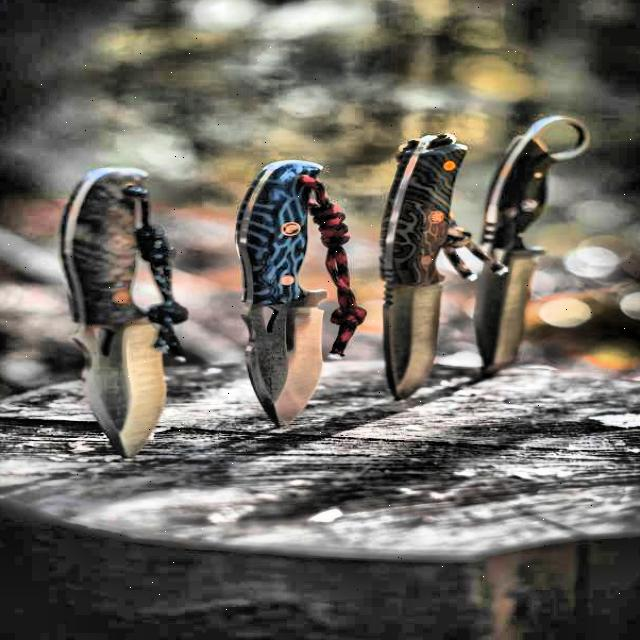knife: (54, 160, 184, 462), (456, 114, 586, 375), (235, 152, 352, 428), (366, 132, 474, 417)
